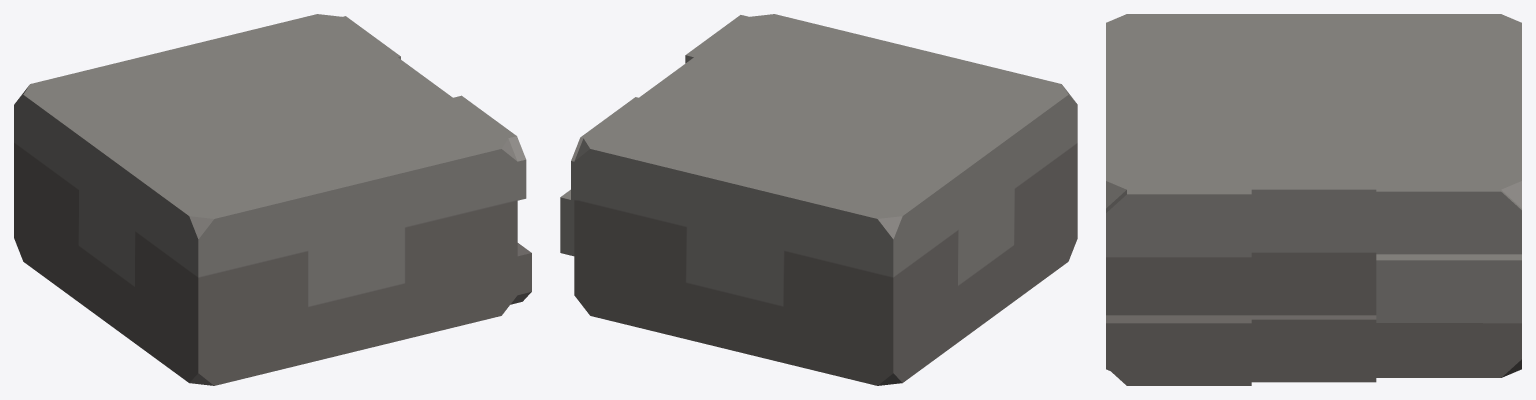
The model's file is Platform_Stone_03.fbx.
The picture shows the model from 3 angles, left to right: view 1: azimuth 30°, elevation 25°; view 2: azimuth 150°, elevation 25°; view 3: azimuth 270°, elevation 25°; orthographic projection. The views are drawn at different scales.
Visible parts, largest first — view 1: Stone_03; view 2: Stone_03; view 3: Stone_03.
Boxes of the visible parts, x1,y1,x2,y2 form: Stone_03: (14,14,531,385); Stone_03: (560,14,1077,385); Stone_03: (1106,14,1521,385).
Size of the model in its own units: 82.26 by 39.37 by 78.74.
1 material, 1 textured.
